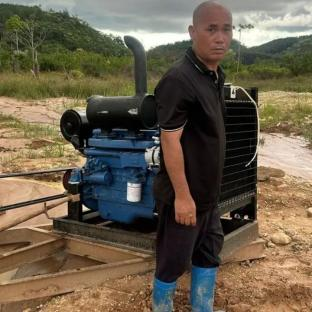Person: (152, 0, 247, 309)
